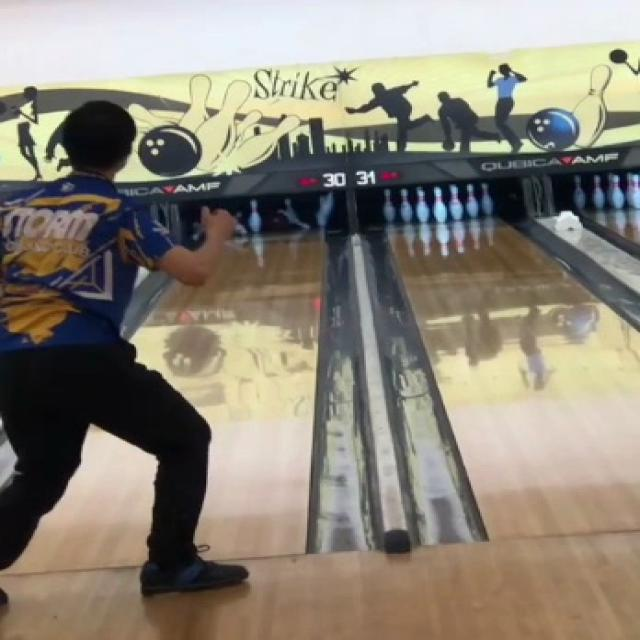alley: (132, 235, 320, 560), (13, 430, 151, 572)
bottle: (239, 192, 337, 235)
